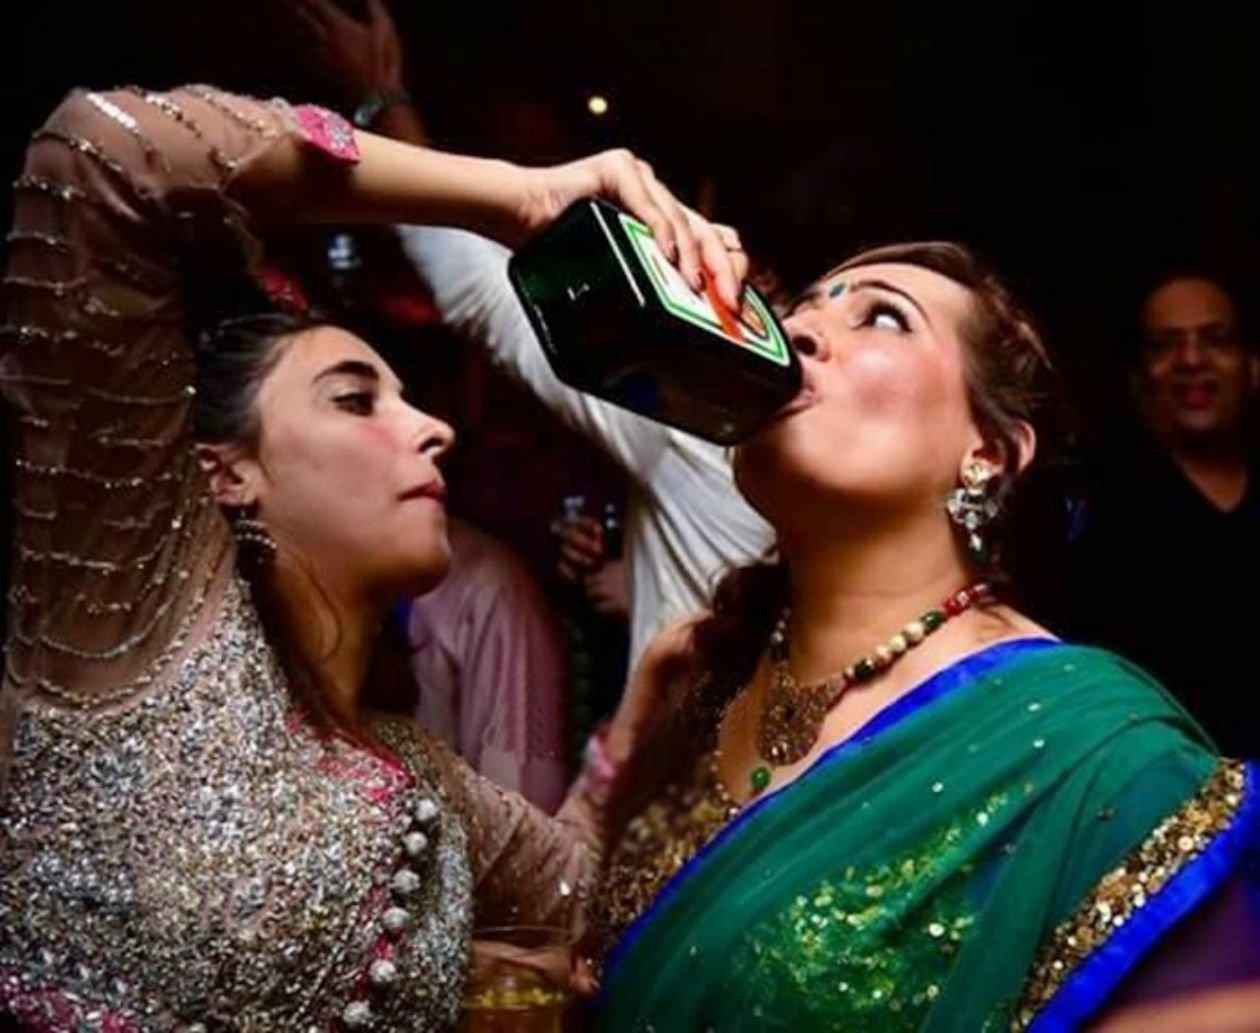Drunk: (736, 275, 965, 518), (286, 316, 455, 588)
